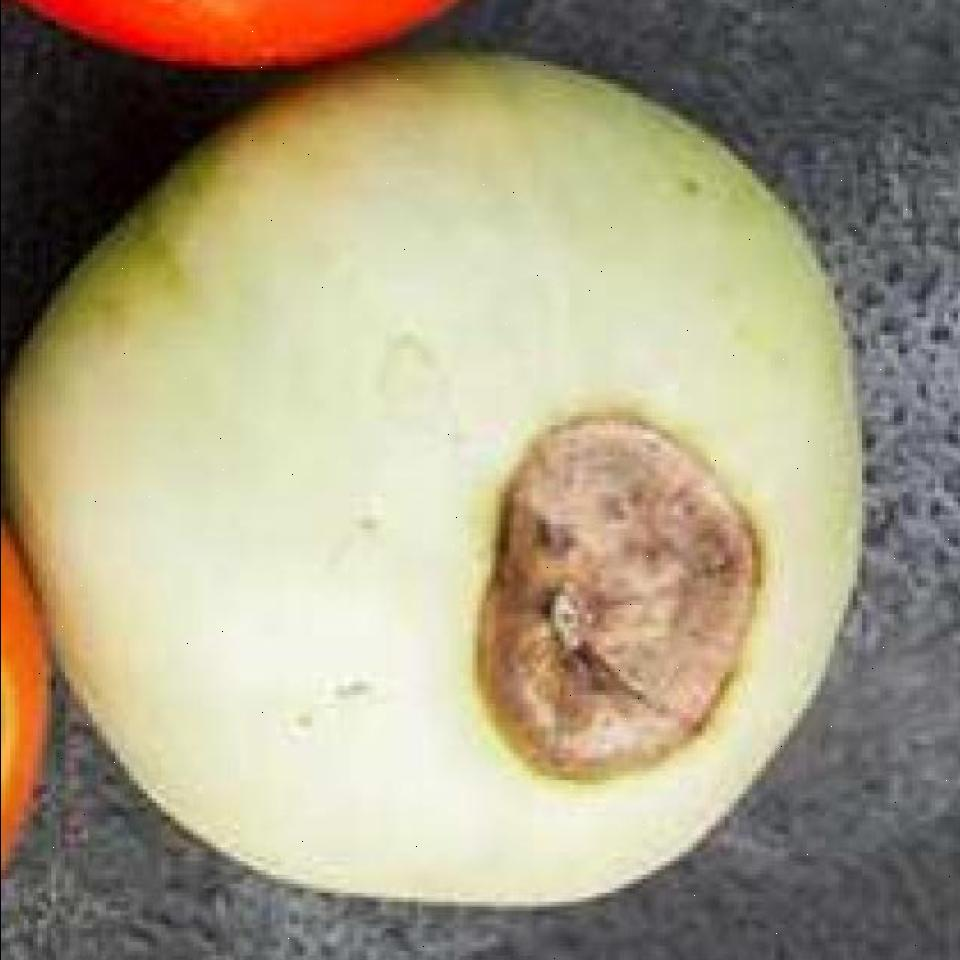Blossom_end_rot: (474, 403, 772, 785)
